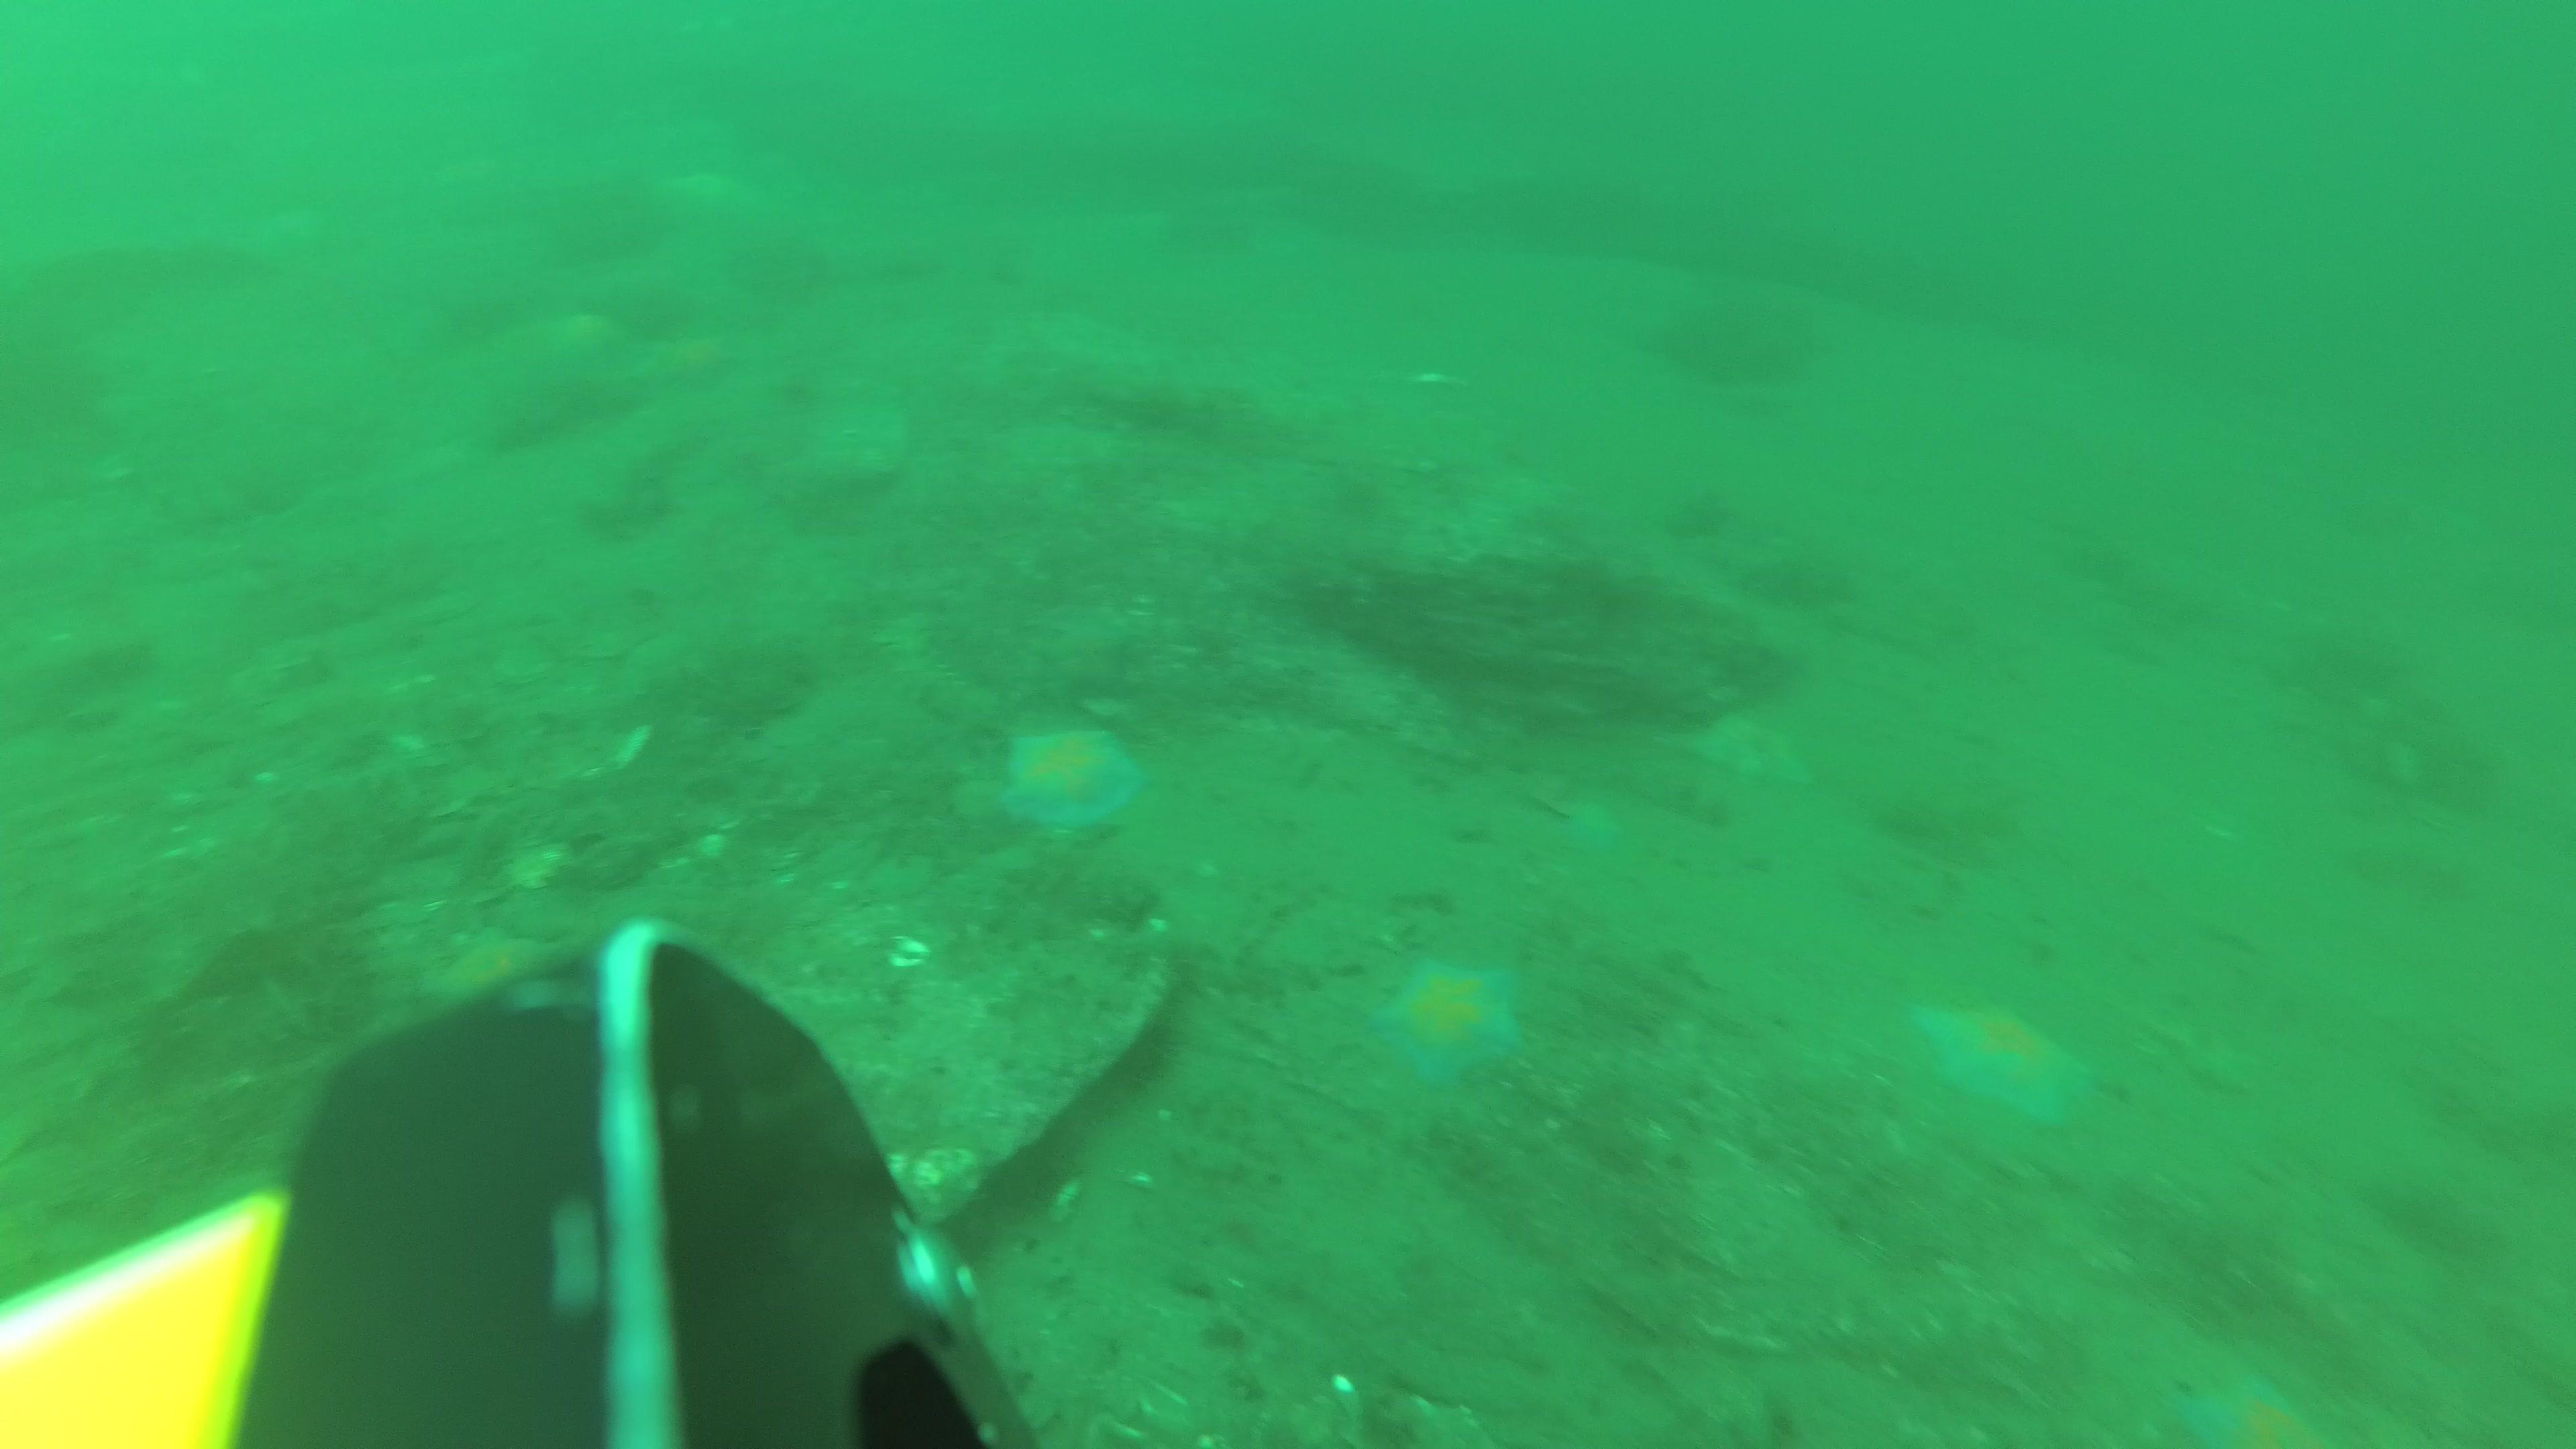starfish: (1913, 1000, 2093, 1127), (1378, 955, 1518, 1085), (1000, 727, 1141, 839), (428, 927, 557, 1033), (2187, 1366, 2323, 1449), (538, 311, 628, 370), (660, 333, 745, 391)
